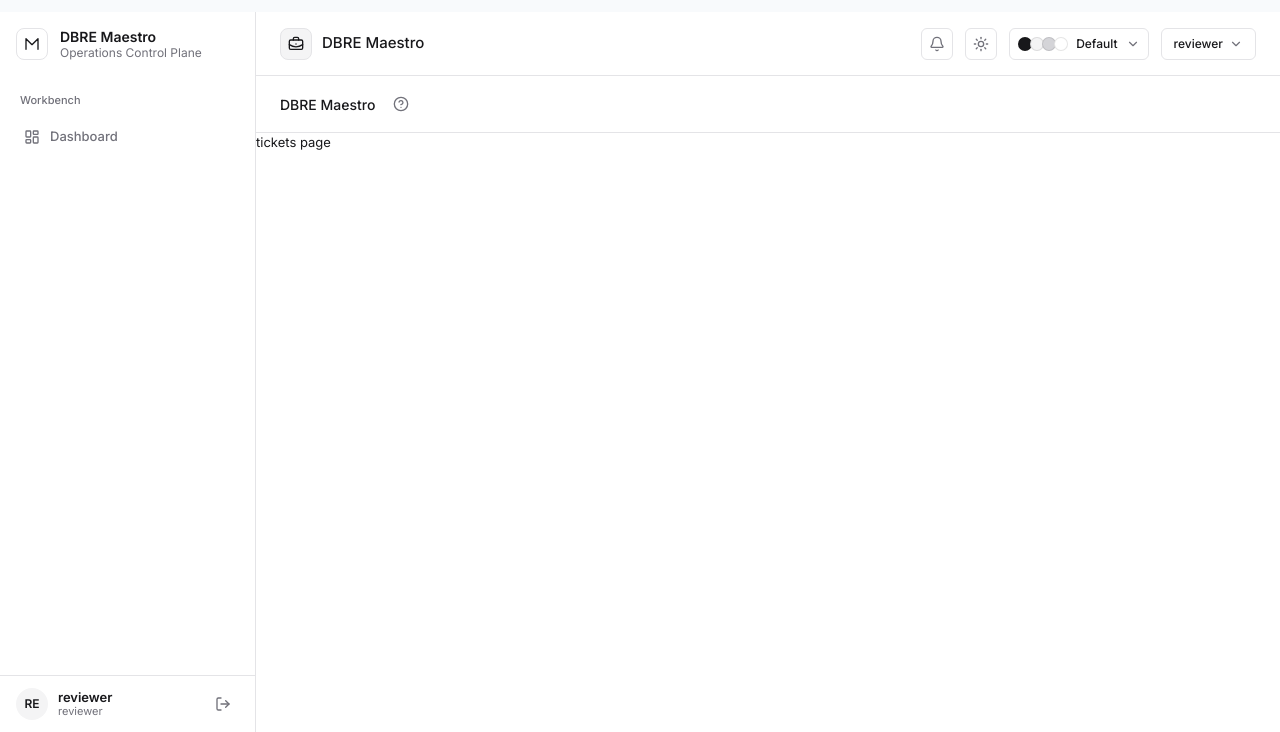
Test: AppShell notifications › 可獨立切換並持久化色彩主題
The image size is (1280, 732).
Click the button with aria-label "Color theme: Default" at (1079, 44), box top-left (1009, 28), bottom-right (1149, 60)
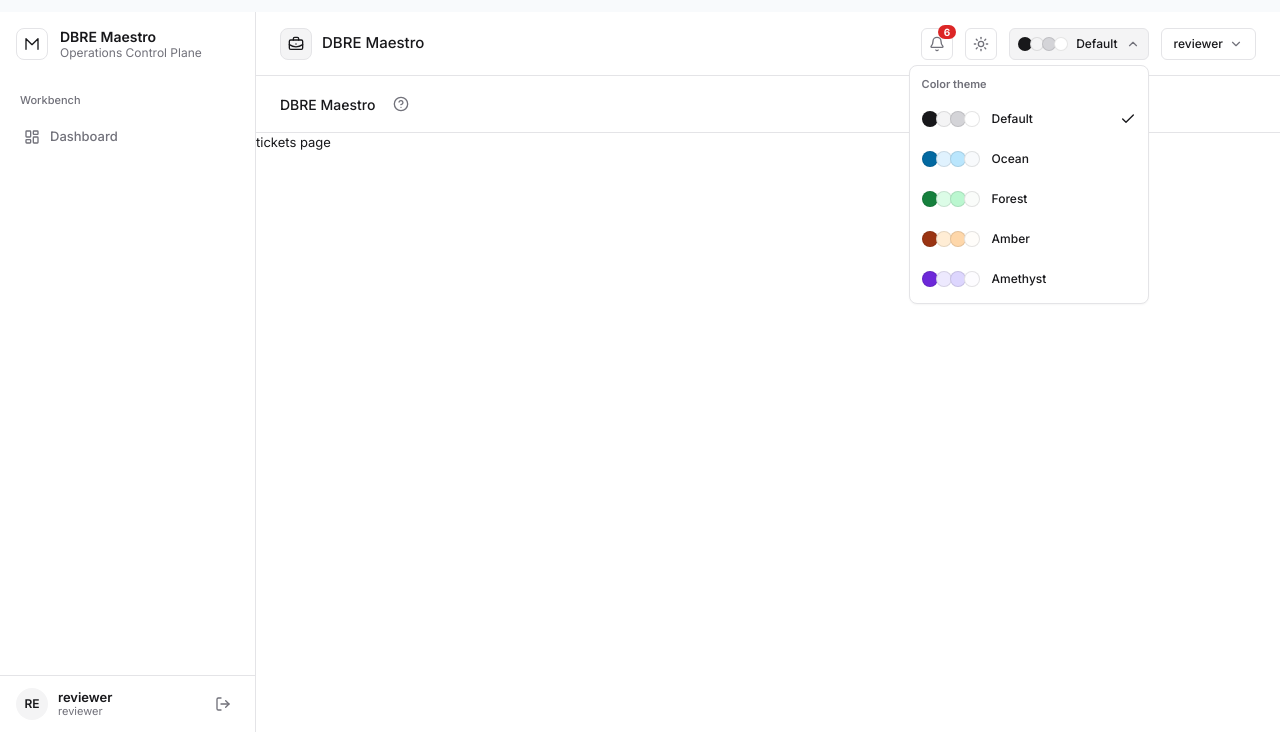
Click the button with aria-label "Ocean color theme" at (1028, 159), box top-left (914, 139), bottom-right (1144, 179)
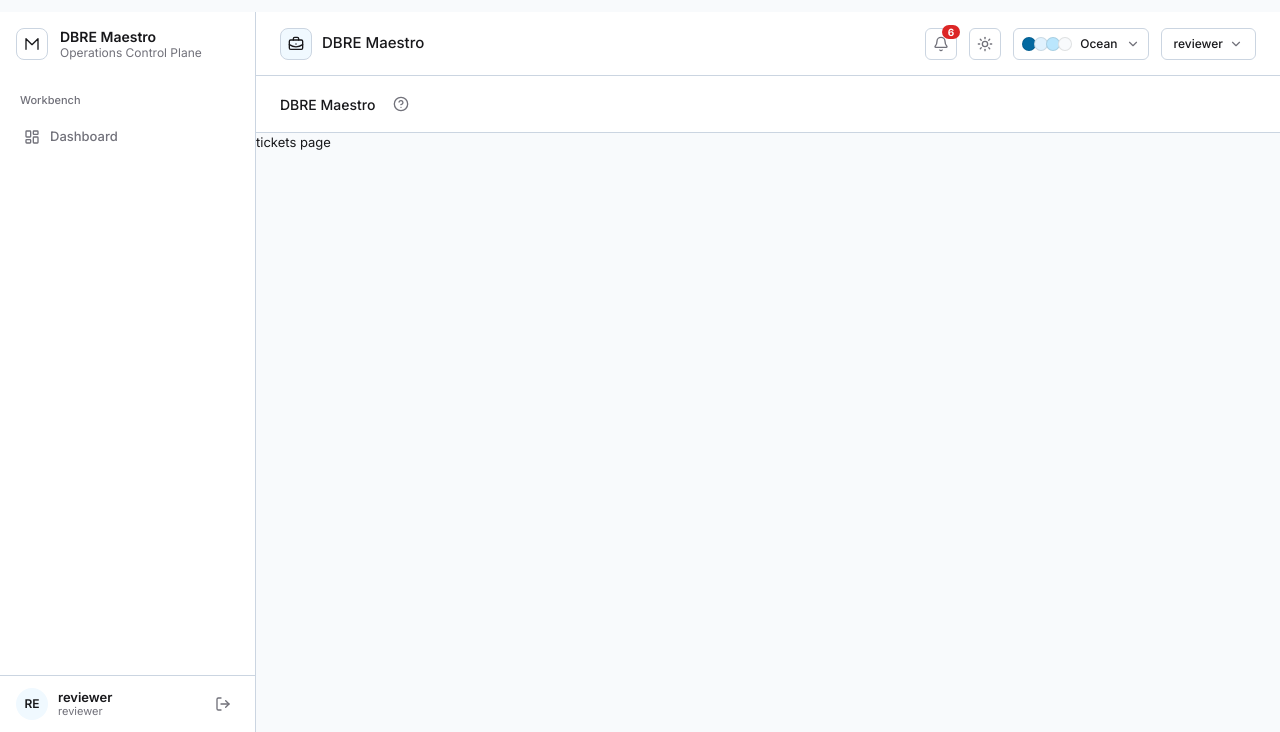
Check: the button with aria-label "Color theme: Ocean" is shown, box top-left (1013, 28), bottom-right (1148, 60)
